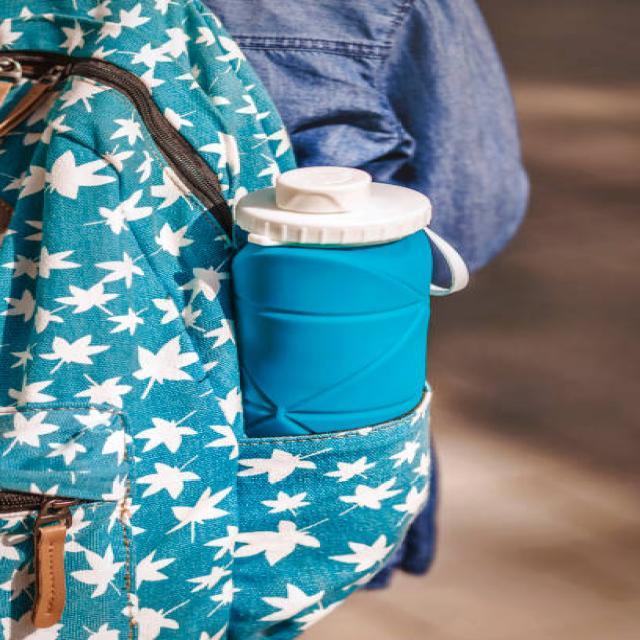blue_bottle: (234, 157, 434, 432)
